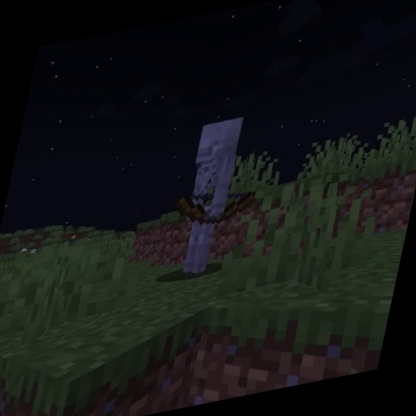skeleton: (153, 105, 277, 285)
